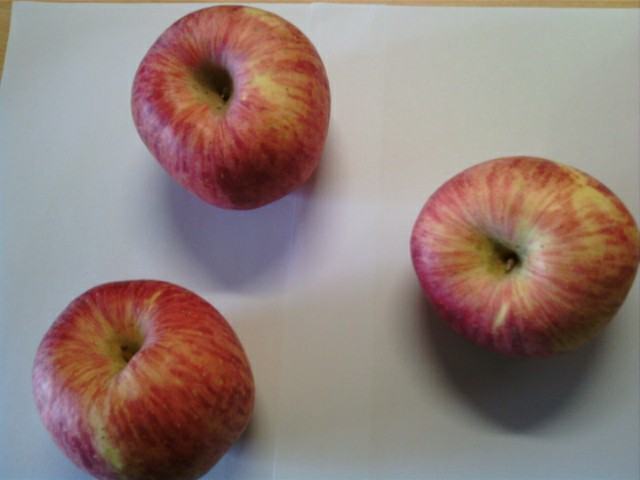normal_apple: (408, 152, 640, 360), (27, 277, 259, 480), (126, 2, 333, 210)
